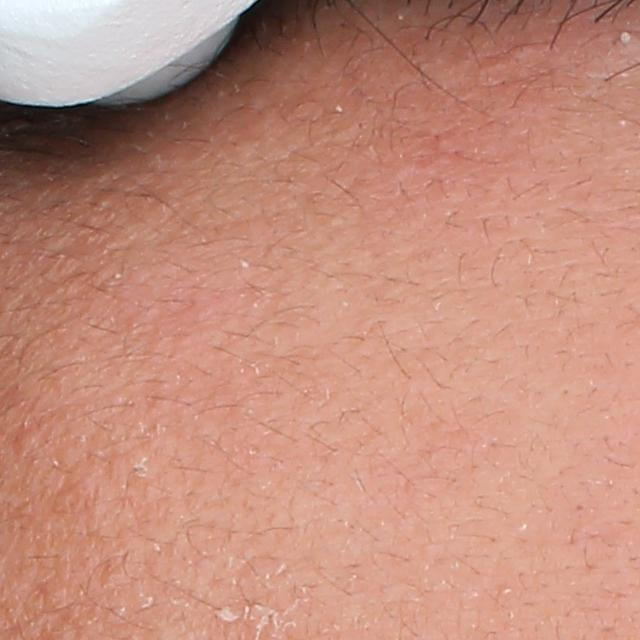comedo: (13, 421, 40, 453)
pustule: (612, 25, 638, 48)
